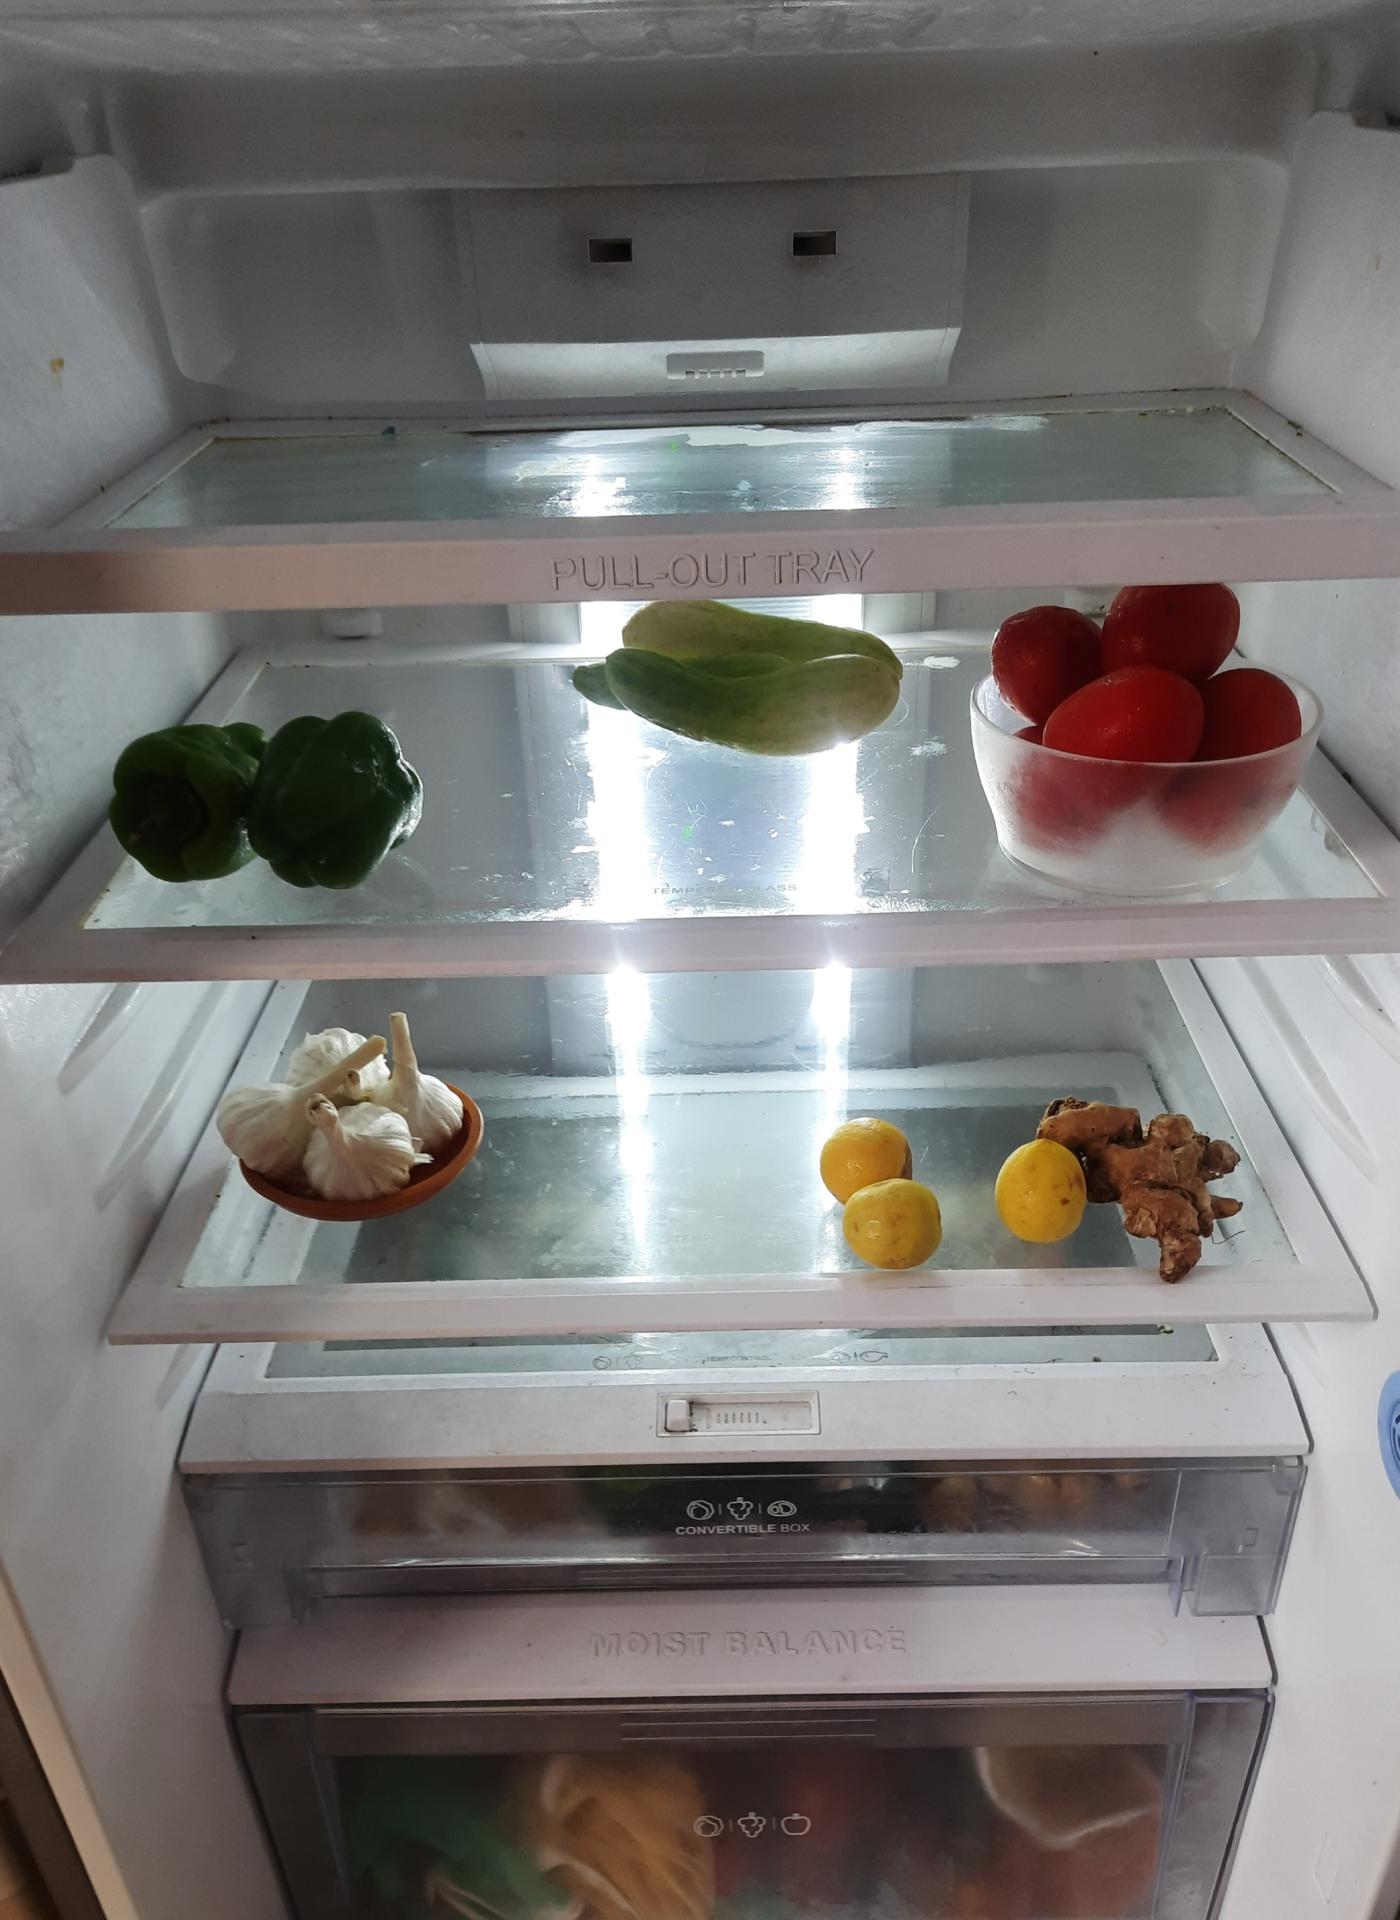capsicum: (101, 707, 423, 897)
cucumber: (578, 598, 908, 751)
garlic: (221, 1011, 473, 1200)
ginger: (1056, 1100, 1246, 1282)
lemon: (822, 1085, 945, 1267), (991, 1136, 1091, 1246)
tomato: (996, 571, 1309, 844)
